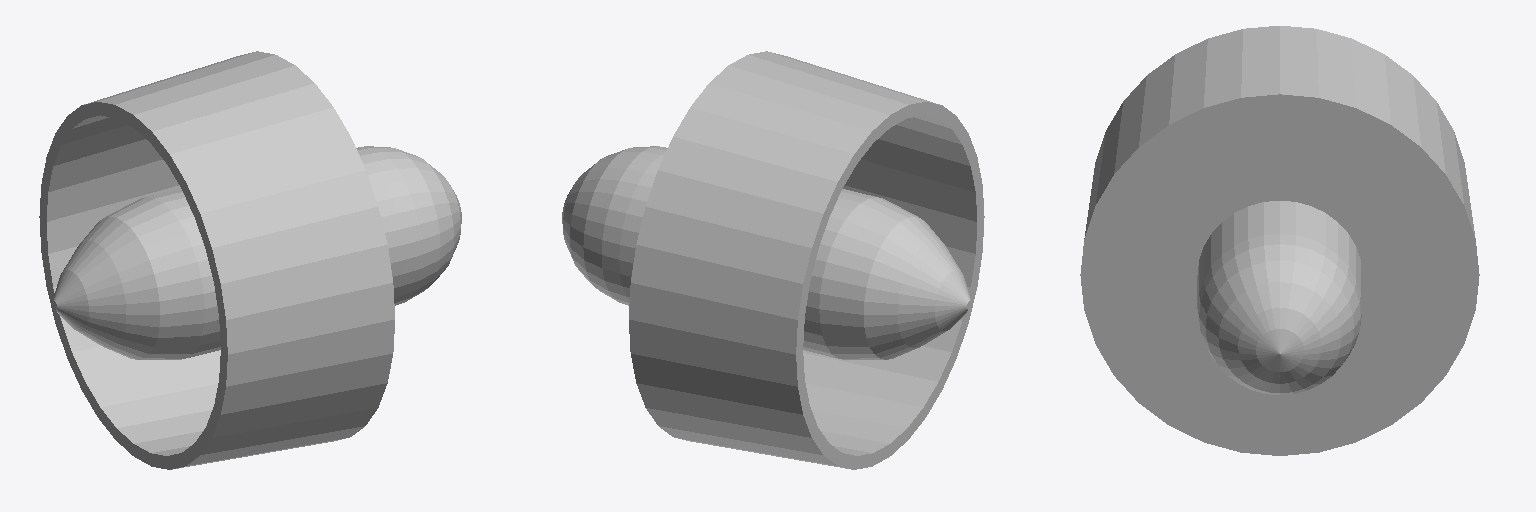
The model's file is duct_phy.obj.
3 renders of one model, left to right at view 1: azimuth 30°, elevation 25°; view 2: azimuth 150°, elevation 25°; view 3: azimuth 270°, elevation 25°, orthographic.
Visible parts, largest first — view 1: duct_phy; view 2: duct_phy; view 3: duct_phy.
Boxes of the visible parts, x1,y1,x2,y2 form: duct_phy: [39, 51, 461, 469]; duct_phy: [562, 51, 984, 469]; duct_phy: [1080, 26, 1479, 455].
Size of the model in its own units: 0.1126 by 0.0967 by 0.0967.